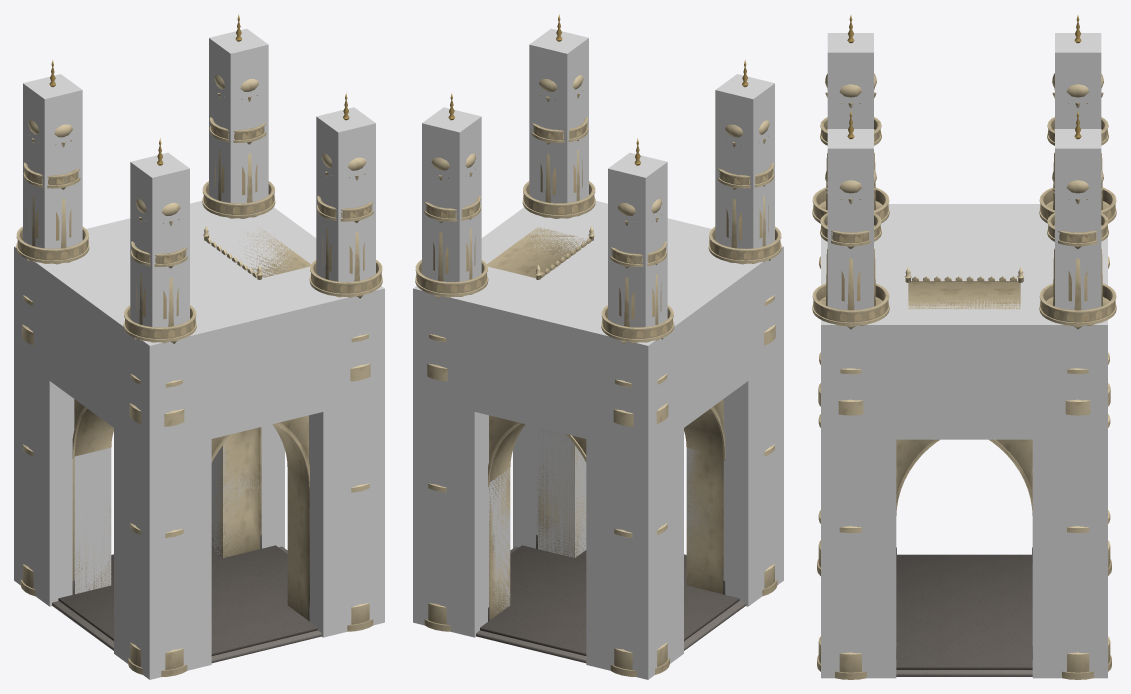
Rendered from charminar.glb.
3 renders of one model, left to right at view 1: azimuth 30°, elevation 25°; view 2: azimuth 150°, elevation 25°; view 3: azimuth 270°, elevation 25°, orthographic. The views are drawn at different scales.
Parts seen in each view (by area): view 1: COL_charminar, charminar_body; view 2: COL_charminar, charminar_body; view 3: COL_charminar, charminar_body.
Boxes of the visible parts, x1=… form: COL_charminar: x1=14, y1=28, x2=384, y2=679; charminar_body: x1=16, y1=14, x2=382, y2=676; COL_charminar: x1=413, y1=28, x2=783, y2=679; charminar_body: x1=415, y1=14, x2=781, y2=676; COL_charminar: x1=821, y1=33, x2=1107, y2=678; charminar_body: x1=812, y1=15, x2=1116, y2=679.
Bounding box in the file's own units: 67 × 135 × 67.
Materials: 7 (7 with a texture image).
